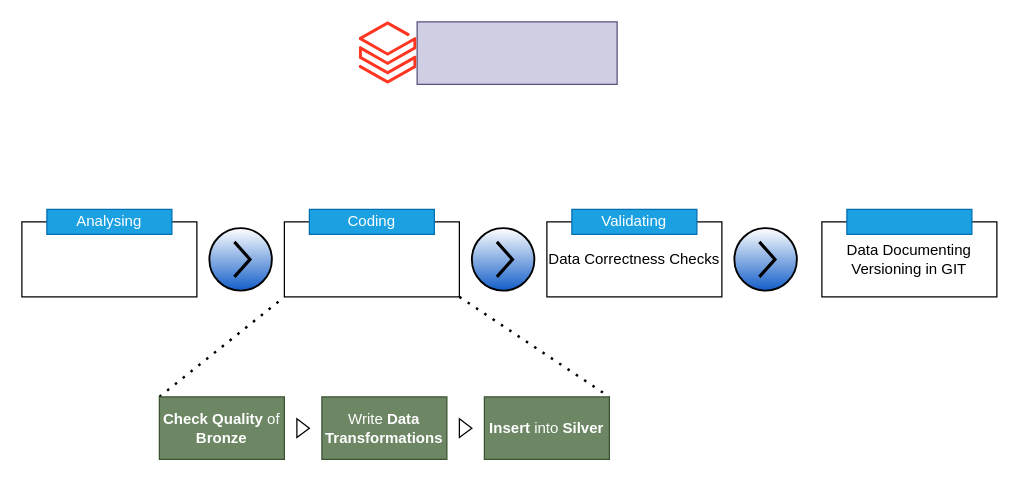
Image size: 1019x481. Some labels were removed from this diagram. Each missing label, with the box of its shape:
Data Cleansing: (283, 221, 459, 297)
Docs & Version: (846, 208, 972, 234)
Explore & Understand the Data: (21, 221, 197, 297)
Silver Layer: (416, 21, 617, 84)
